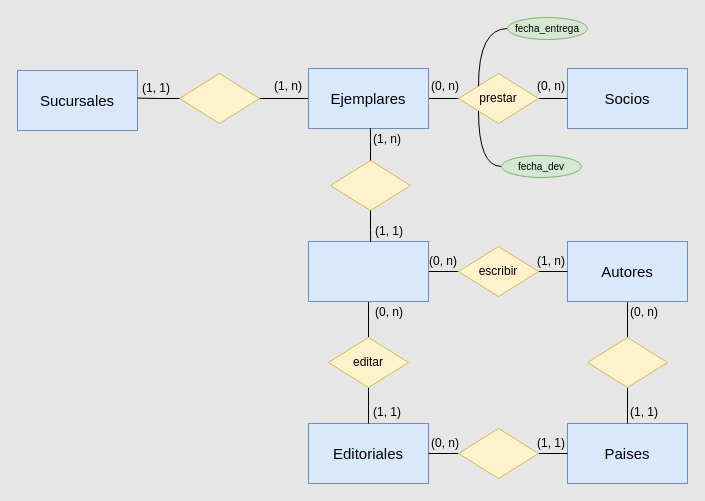
Image size: 705x501. Some labels were removed from this diagram. Here are the shapes that lost their labels. From the top down, the centre of each, then its label:
point 219,98: tener
point 370,185: ser
point 368,271: Libros
point 627,362: nacer
point 498,453: radicar
